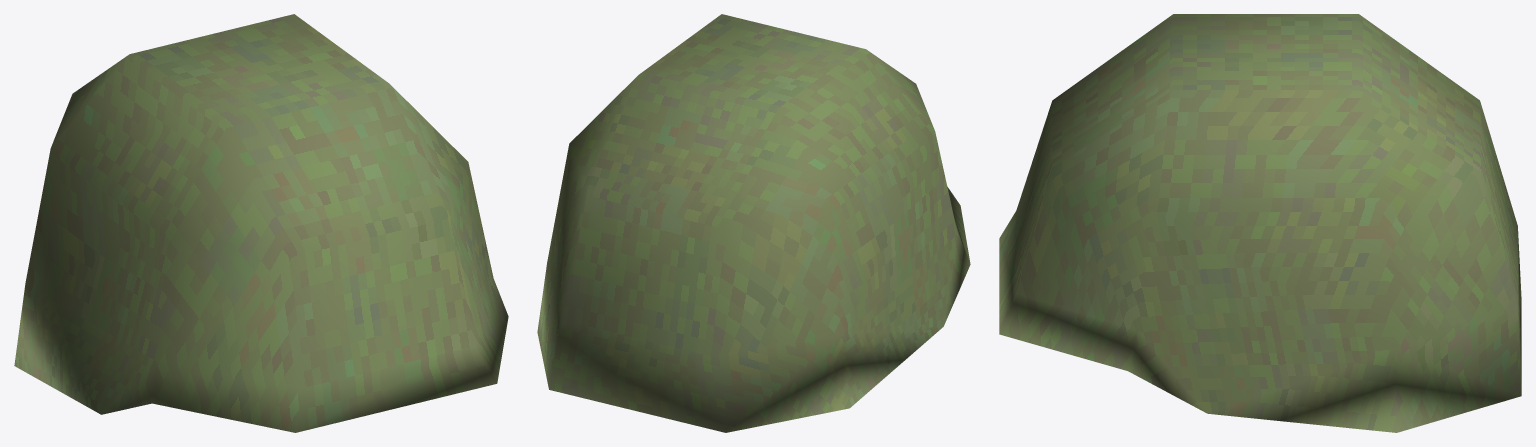
File: IR_Helmet_Green.glb
The picture shows the model from 3 angles, left to right: view 1: azimuth 30°, elevation 25°; view 2: azimuth 150°, elevation 25°; view 3: azimuth 270°, elevation 25°; orthographic projection. The views are drawn at different scales.
Parts seen in each view (by area): view 1: IR_HELMET_GREEN; view 2: IR_HELMET_GREEN; view 3: IR_HELMET_GREEN.
Boxes of the visible parts, x1,y1,x2,y2 form: IR_HELMET_GREEN: (14,14,508,432); IR_HELMET_GREEN: (537,14,970,432); IR_HELMET_GREEN: (999,14,1521,432).
Size of the model in its own units: 0.224 by 0.172 by 0.276.
1 material, 1 textured.
